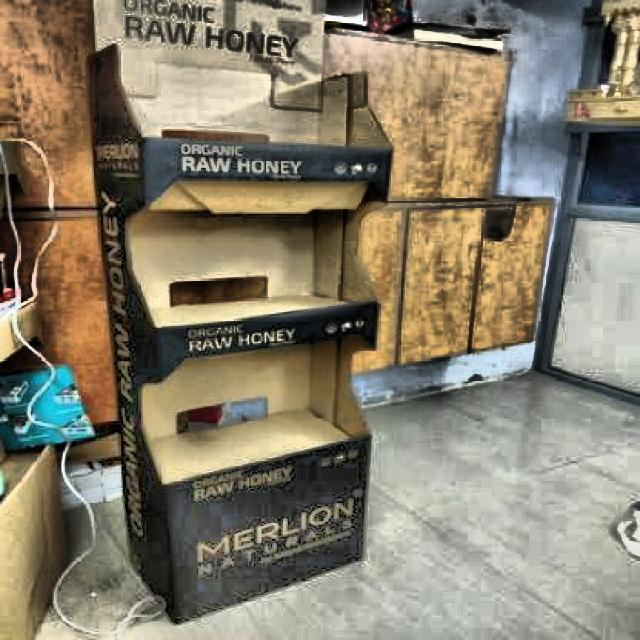Cardbox: (85, 0, 399, 622)
